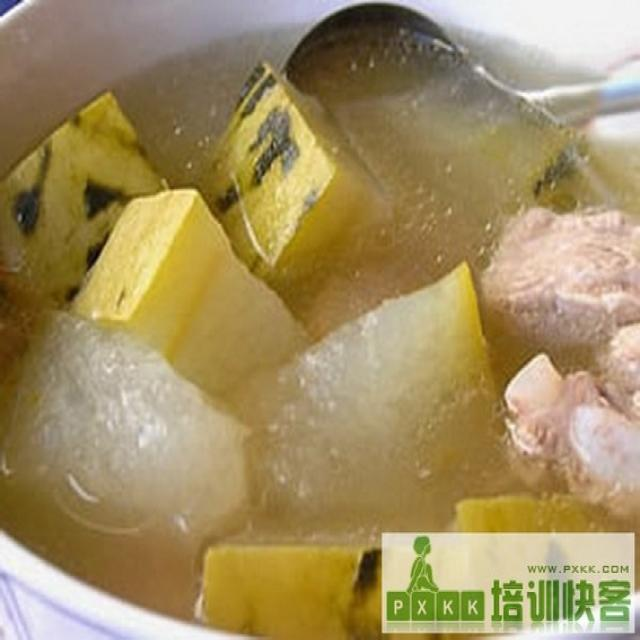汤锅炖物: (39, 45, 613, 602)
